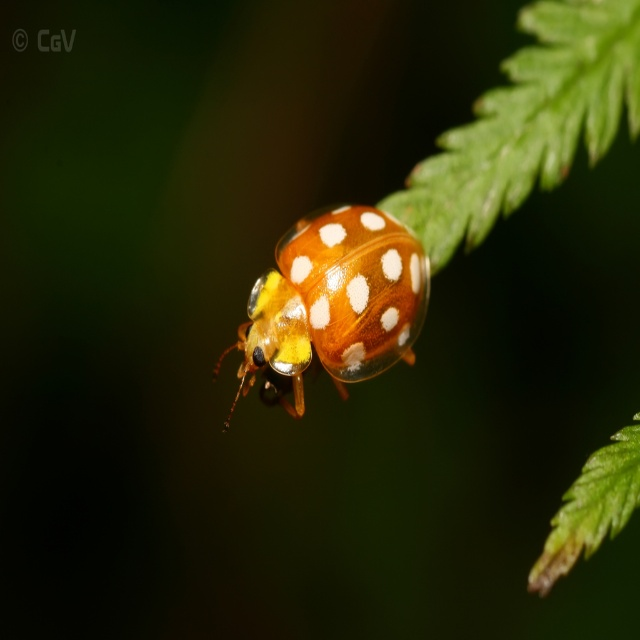Ladybug: (213, 203, 435, 432)
